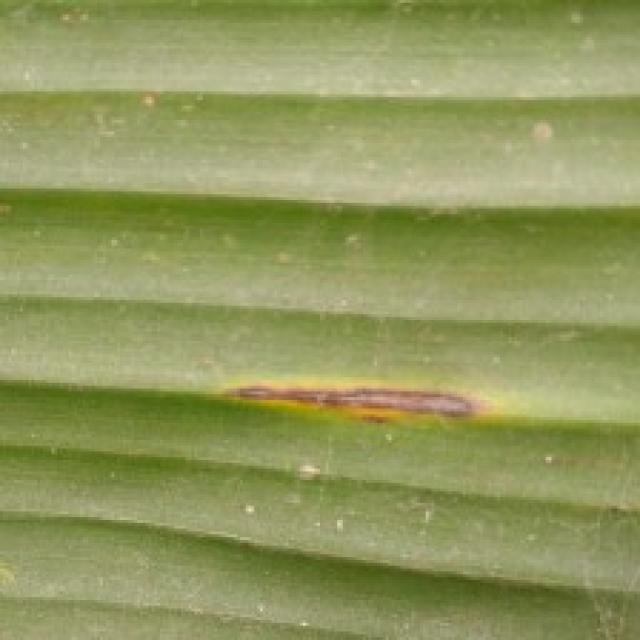Early_leaf_spot: (208, 352, 505, 454)
